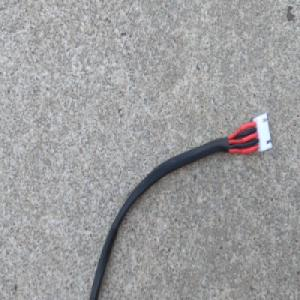Wire: (87, 110, 272, 300)
